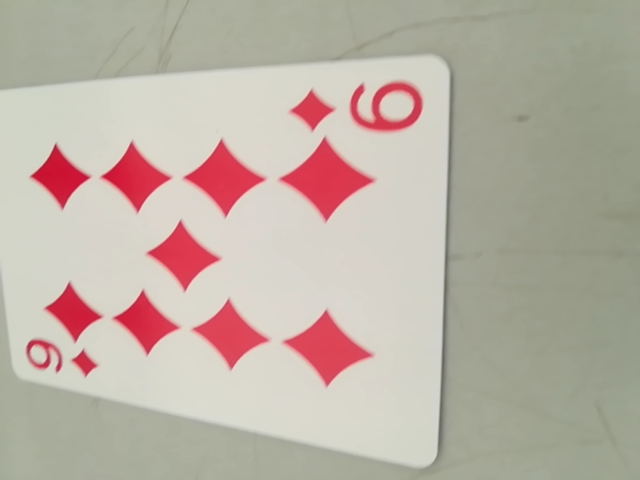fk 9: (289, 69, 426, 146), (16, 333, 105, 386)
